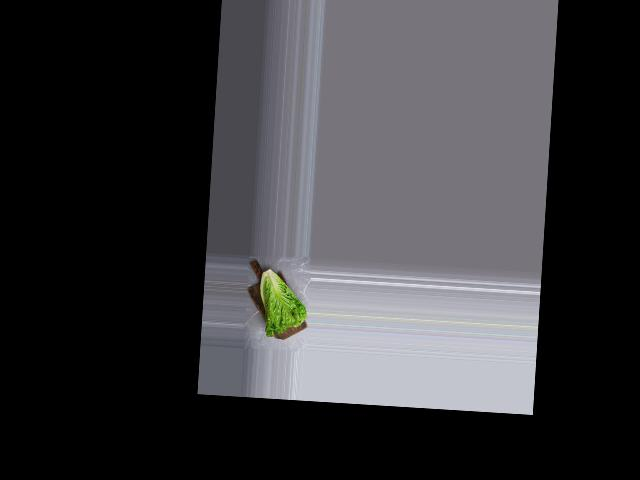lettuce: (249, 265, 309, 339)
